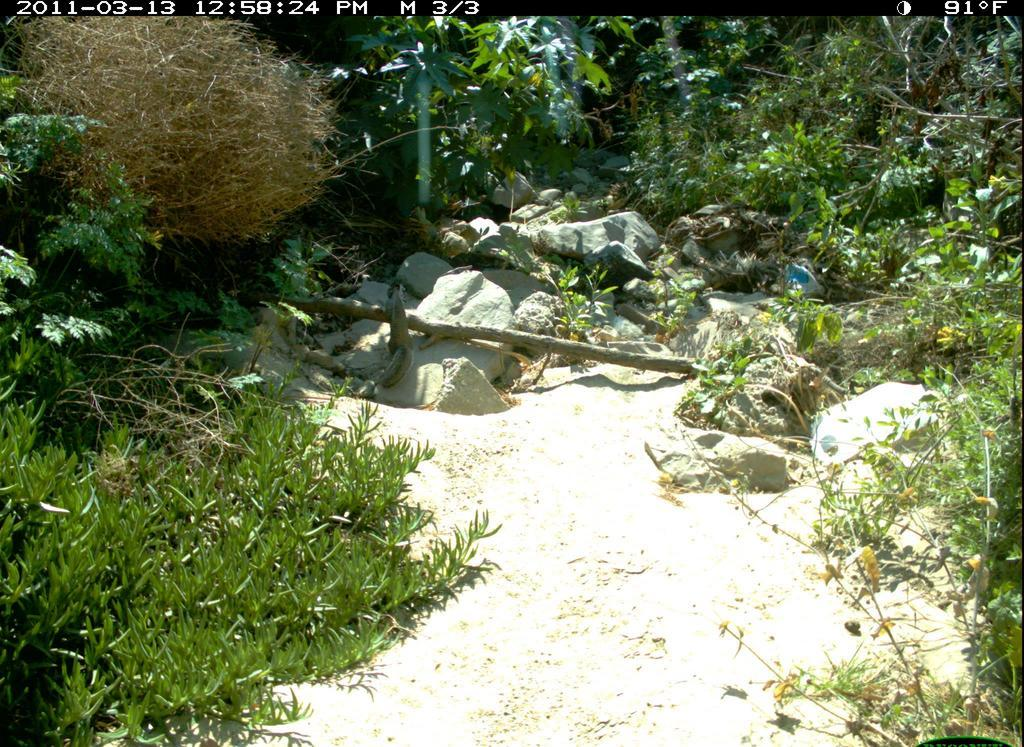squirrel: (370, 281, 415, 386)
